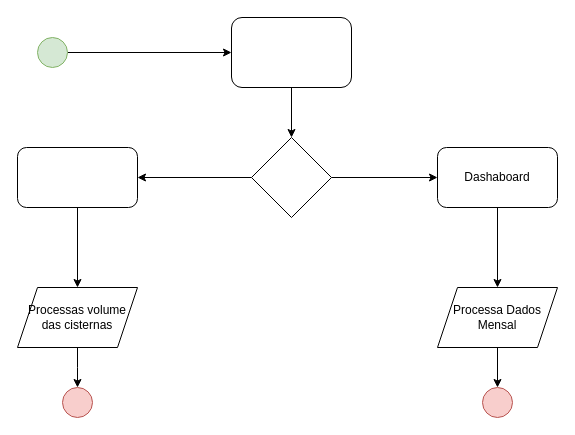
Some shapes in this 575 by 435 pixel diagram are drawn without their labels. Here are the shapes that lost their labels. From the top down, the box of each, then its label:
(230, 16, 352, 88): Seleciona a visualização
(16, 146, 138, 208): Volume
